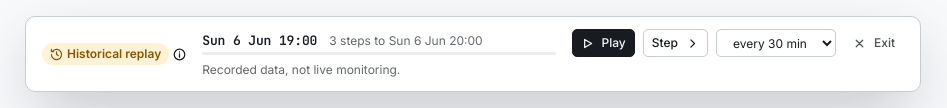
Test: replay dock › plays to the end of the window and stops there
This screenshot has width=947, height=108.
Click the button with aria-label "Play replay" at (603, 43), box [572,29,635,57]
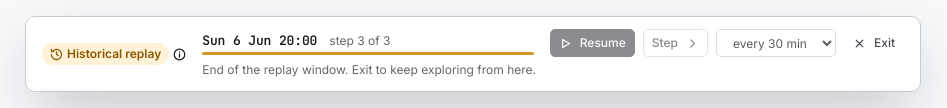
expect the text "End of the replay window. Exit to keep exploring from here." is shown: met, box [202,62,536,77]
expect the button with aria-label "Resume replay" is disabled: met, box [550,29,635,57]
